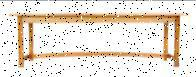Mesa: (10, 12, 188, 68)
